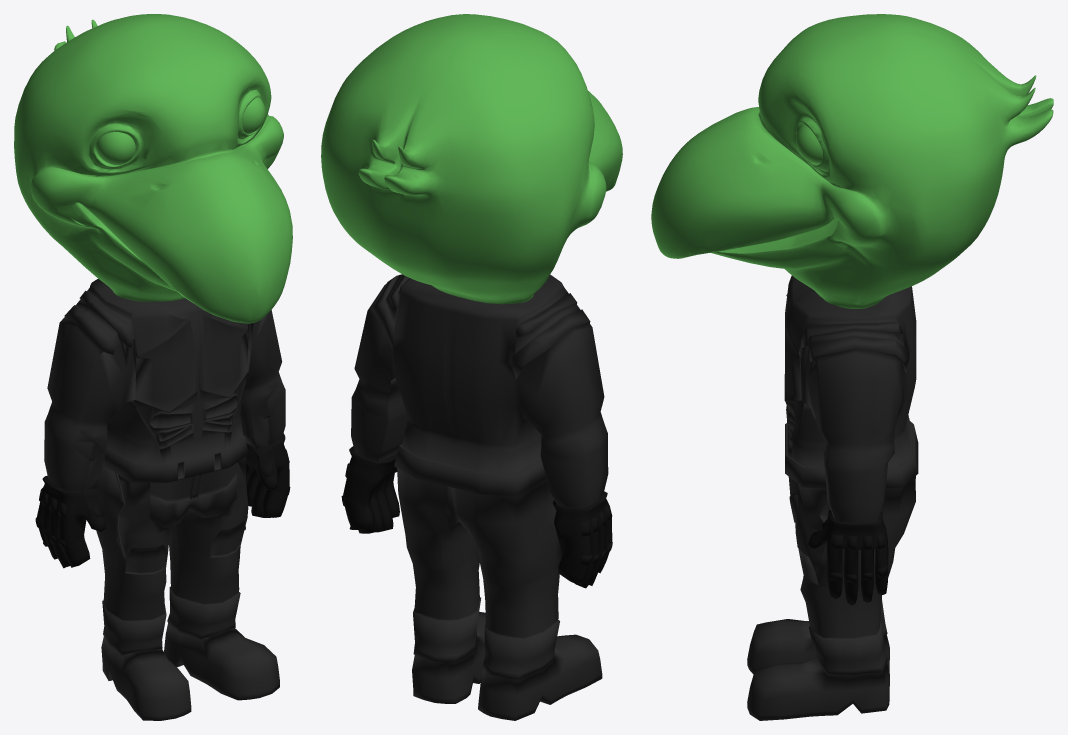
File: vittata_base_lod1.glb
3 renders of one model, left to right at view 1: azimuth 30°, elevation 25°; view 2: azimuth 150°, elevation 25°; view 3: azimuth 270°, elevation 25°, orthographic. The views are drawn at different scales.
Visible parts, largest first — view 1: Cuerpo, Amazon parrots, Brazo.000, Brazo.001; view 2: Cuerpo, Amazon parrots, Brazo.000, Brazo.001; view 3: Amazon parrots, Cuerpo, Brazo.001.
Boxes of the visible parts, x1,y1,x2,y2 form: Cuerpo: [44, 279, 285, 720]; Amazon parrots: [14, 14, 292, 323]; Brazo.000: [35, 475, 106, 568]; Brazo.001: [246, 433, 290, 517]; Cuerpo: [351, 274, 608, 720]; Amazon parrots: [321, 14, 622, 304]; Brazo.000: [552, 491, 612, 588]; Brazo.001: [341, 446, 399, 533]; Amazon parrots: [651, 14, 1053, 308]; Cuerpo: [747, 275, 918, 720]; Brazo.001: [808, 510, 888, 605].
Bounding box in the file's own units: 3.7 × 9.34 × 5.17.
